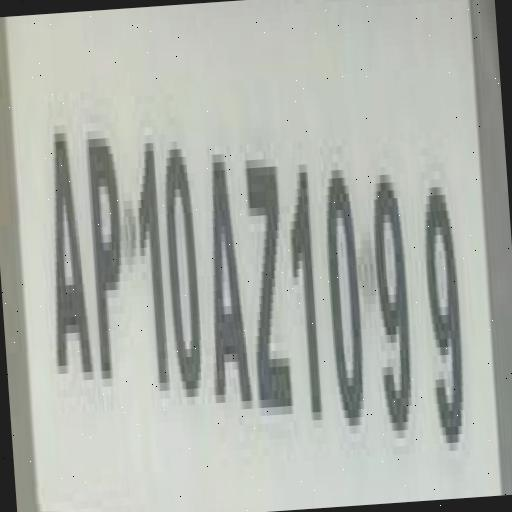number plate: (10, 7, 512, 511)
